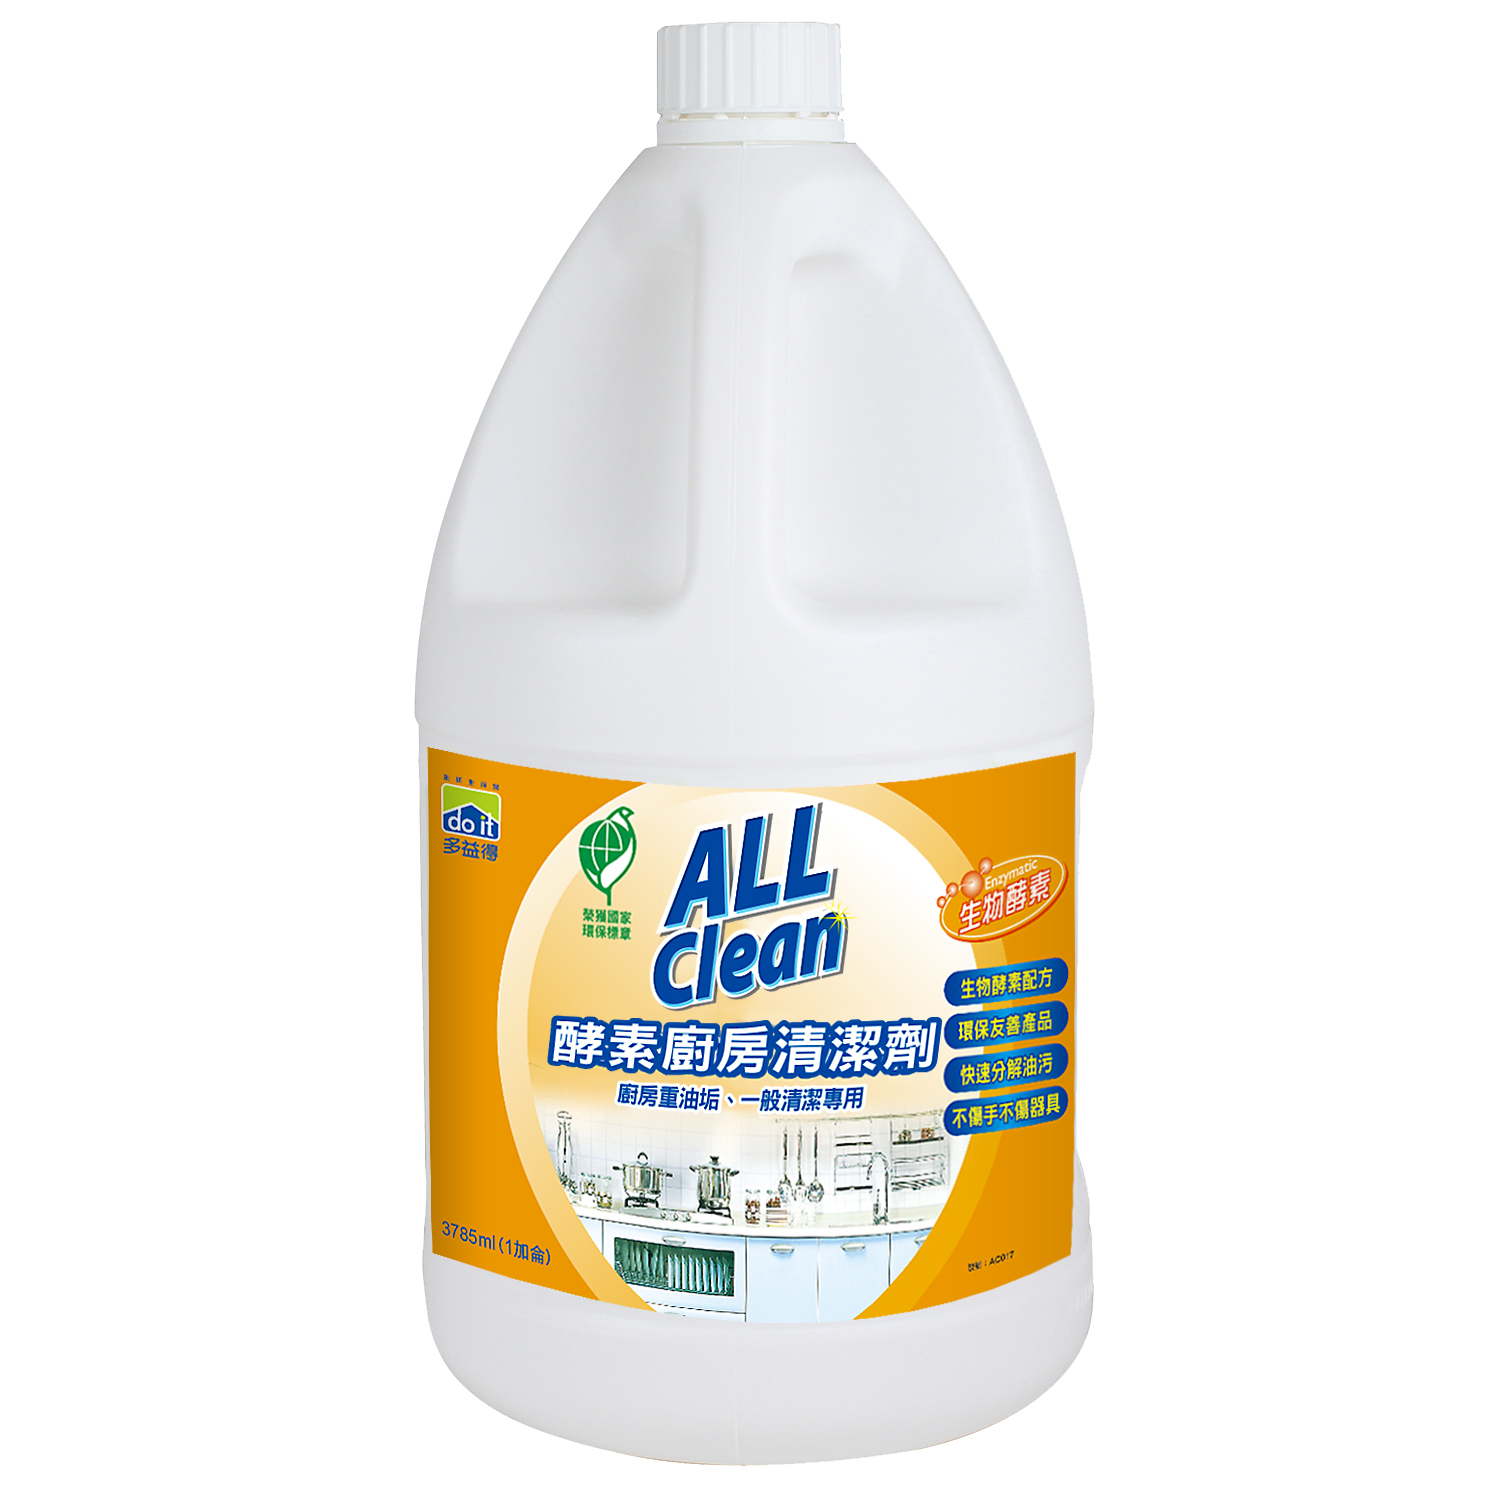cleaner: (413, 14, 1115, 1471)
